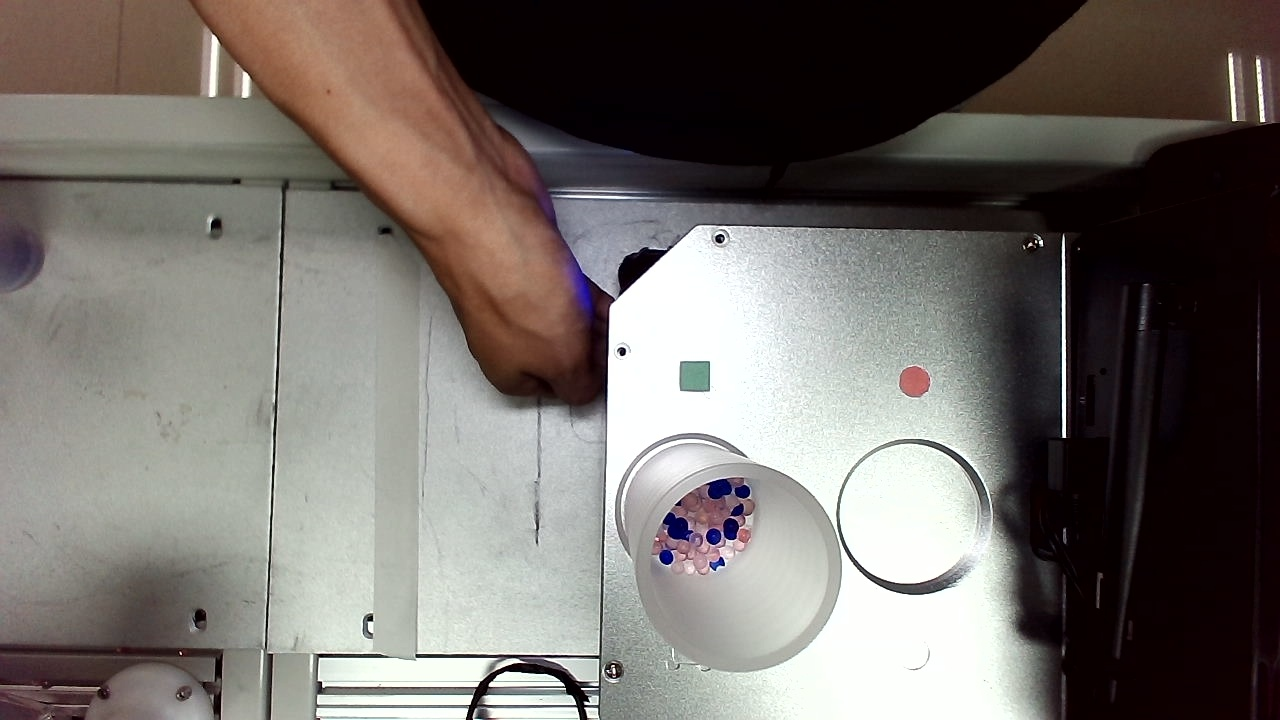bad: (839, 383, 890, 431), (256, 606, 304, 655), (784, 15, 829, 62), (815, 92, 859, 135), (467, 641, 507, 686), (263, 13, 306, 54), (261, 163, 304, 204), (407, 49, 446, 93), (605, 614, 646, 655), (769, 579, 810, 620), (833, 560, 872, 603), (518, 243, 556, 285), (260, 331, 299, 371), (578, 529, 616, 570), (832, 52, 873, 89), (592, 444, 633, 481), (347, 2, 385, 40), (754, 423, 791, 460), (809, 347, 845, 384), (811, 394, 846, 430), (804, 51, 837, 89)
defact: (687, 143, 727, 181)
pass: (578, 144, 621, 195), (287, 565, 334, 610), (386, 479, 431, 523), (843, 492, 884, 538), (638, 414, 680, 457), (763, 135, 805, 178), (515, 391, 555, 435), (261, 406, 304, 446), (690, 94, 729, 138), (528, 524, 566, 568), (412, 277, 452, 317), (619, 580, 656, 623), (798, 171, 833, 213), (857, 591, 892, 632), (662, 45, 696, 83)
toolong: (701, 457, 775, 503), (797, 435, 846, 495), (345, 41, 383, 105)
unpass: (794, 206, 844, 251), (260, 525, 308, 570), (832, 1, 875, 51), (836, 344, 880, 387), (256, 286, 300, 327), (647, 356, 686, 402), (269, 201, 314, 240), (773, 362, 812, 405), (845, 421, 889, 459), (766, 638, 806, 678), (842, 311, 882, 351), (281, 365, 322, 403), (740, 564, 777, 606), (684, 571, 721, 612), (648, 468, 684, 510), (584, 563, 622, 602), (858, 639, 897, 676), (679, 8, 715, 48), (778, 69, 816, 106), (747, 89, 781, 130), (309, 5, 346, 42), (813, 504, 848, 542), (640, 15, 674, 52)
